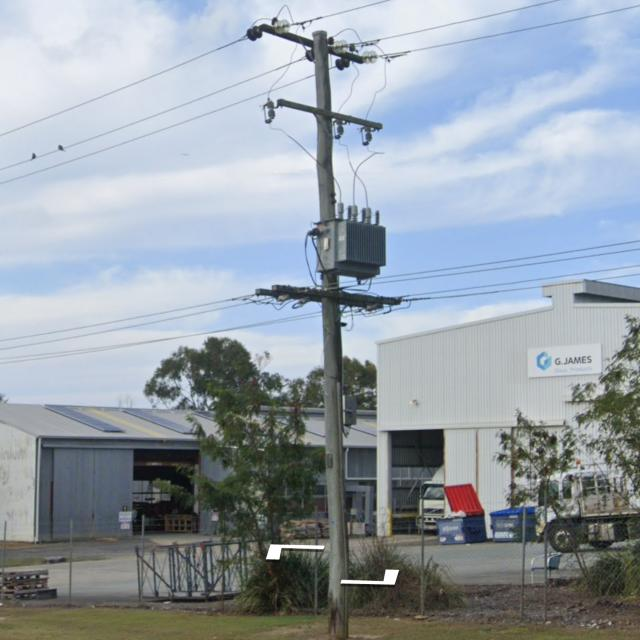HV-transmission: (245, 17, 382, 147)
crossarm: (246, 19, 376, 70), (264, 97, 382, 147), (256, 285, 404, 311)
timber-pole: (310, 29, 350, 640)
transformer: (318, 204, 386, 282)
